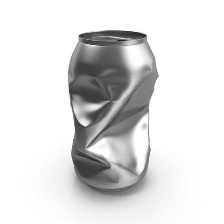can: (64, 27, 163, 197)
